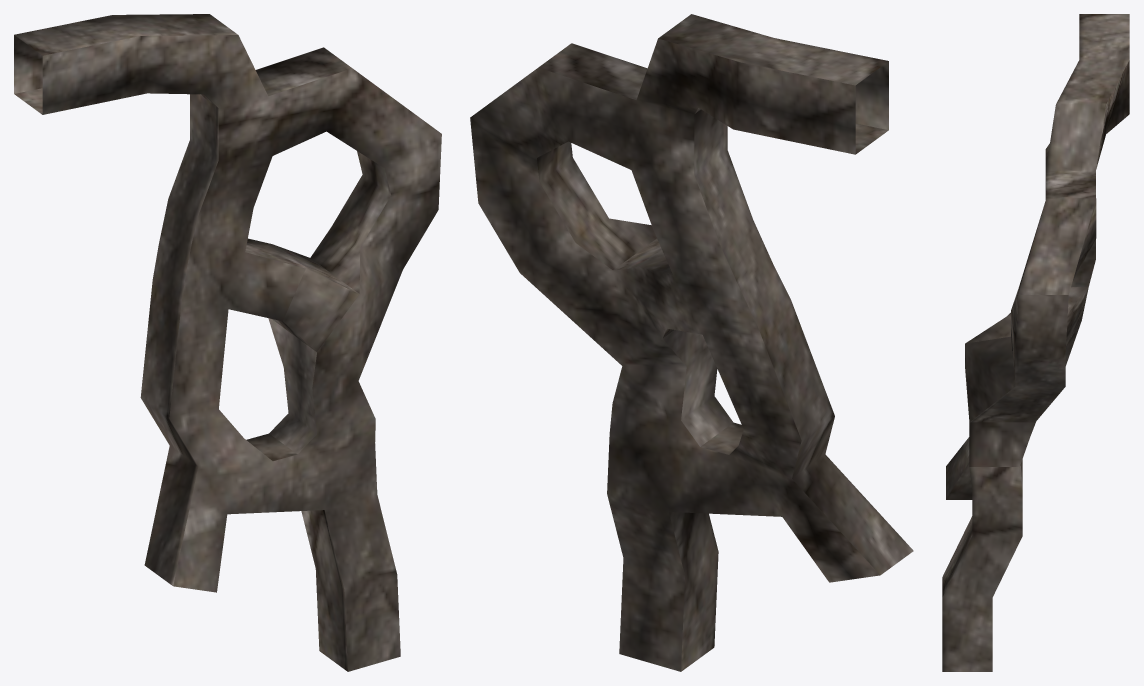
The model's file is testterrain.dae.
The picture shows the model from 3 angles, left to right: view 1: azimuth 30°, elevation 25°; view 2: azimuth 150°, elevation 25°; view 3: azimuth 270°, elevation 25°; orthographic projection. The views are drawn at different scales.
Parts seen in each view (by area): view 1: Cube.001; view 2: Cube.001; view 3: Cube.001.
Part boxes in pixels (x1=…): Cube.001: x1=14, y1=14, x2=441, y2=671; Cube.001: x1=470, y1=14, x2=913, y2=671; Cube.001: x1=942, y1=14, x2=1129, y2=671.
Size of the model in its own units: 18.96 by 9.59 by 30.53.
